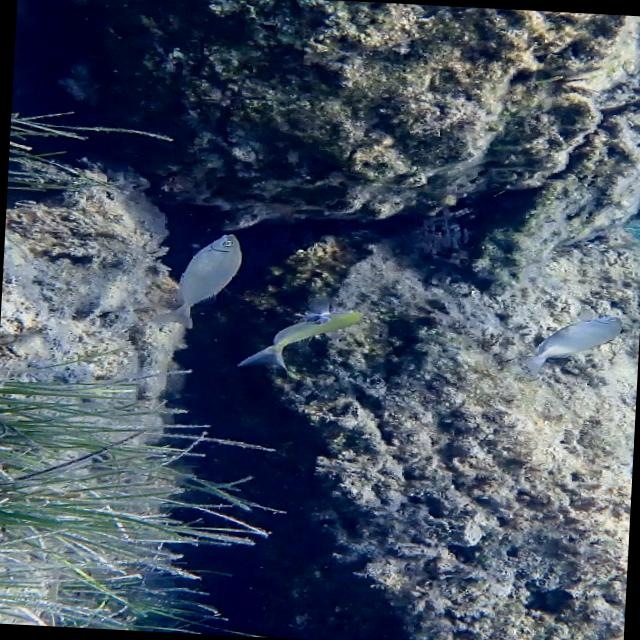Sokar Baligi: (138, 225, 246, 344), (508, 306, 628, 388)
